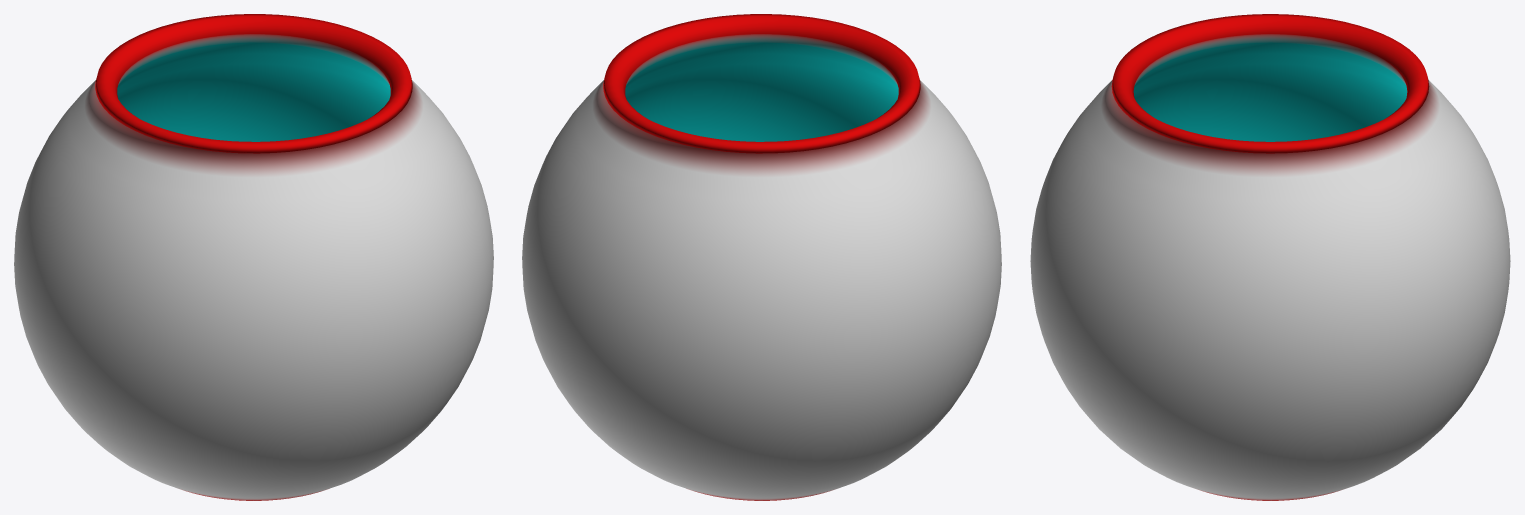
File: Fishbowl.fbx
The picture shows the model from 3 angles, left to right: view 1: azimuth 30°, elevation 25°; view 2: azimuth 150°, elevation 25°; view 3: azimuth 270°, elevation 25°; orthographic projection.
Parts seen in each view (by area): view 1: Fishbowl; view 2: Fishbowl; view 3: Fishbowl.
Boxes of the visible parts, x1,y1,x2,y2 form: Fishbowl: [14, 14, 493, 500]; Fishbowl: [522, 14, 1001, 500]; Fishbowl: [1030, 14, 1510, 500].
Size of the model in its own units: 1.47 by 1.29 by 1.47.
